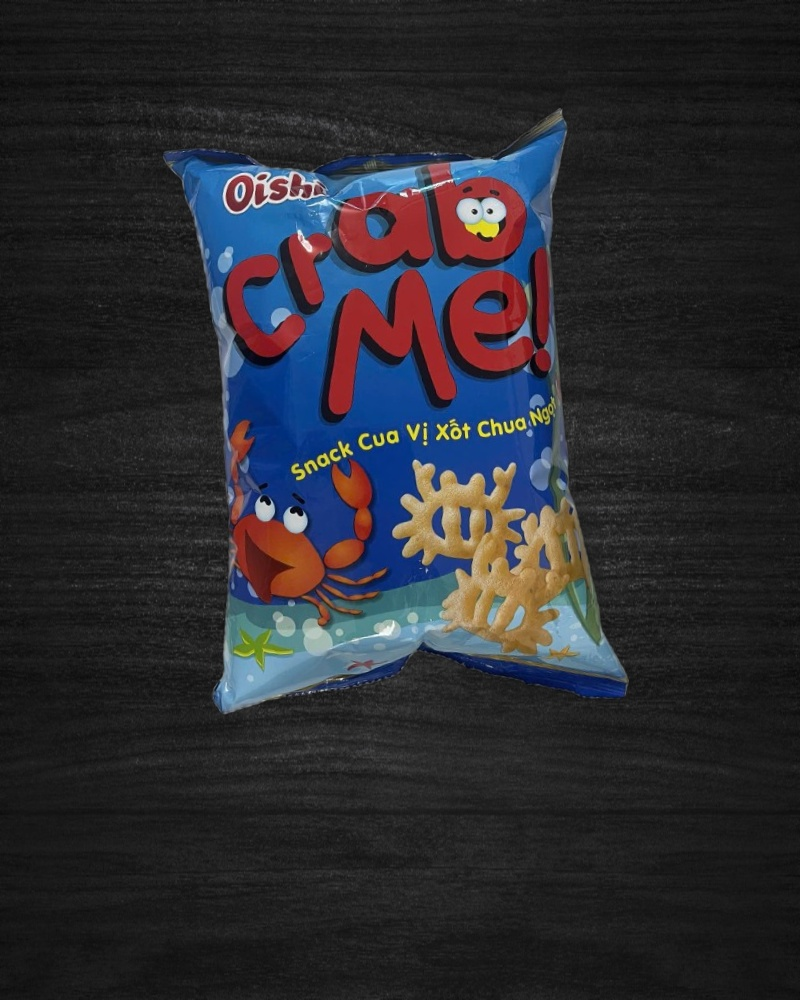Snack chay: (162, 107, 631, 735)
